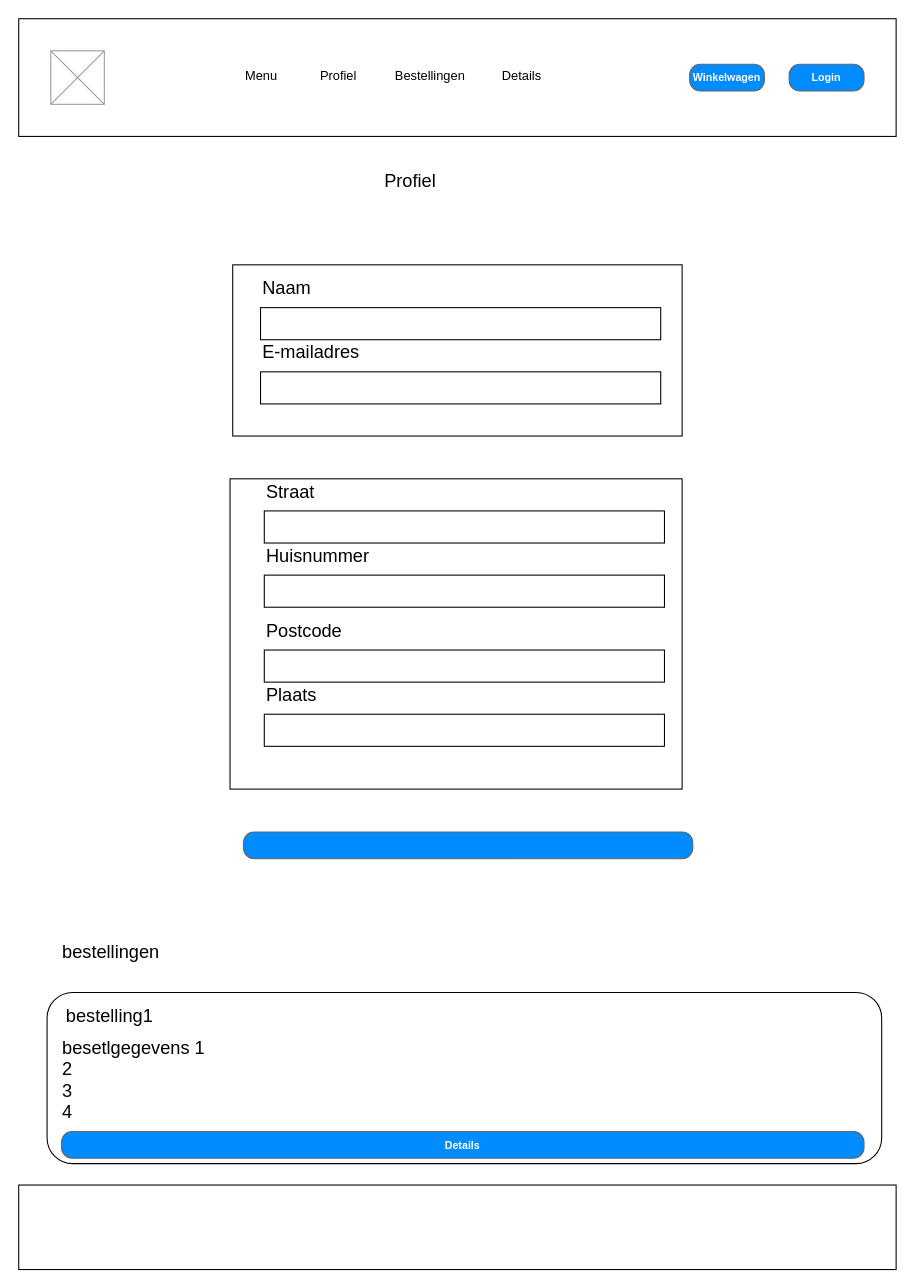
Some shapes in this 915 by 1288 pixel diagram are drawn without their labels. Here are the shapes that lost their labels. From the top down, the centre of each, then its label:
(467,845): Gegevens opslaan
(457,1227): Privacy ..............
